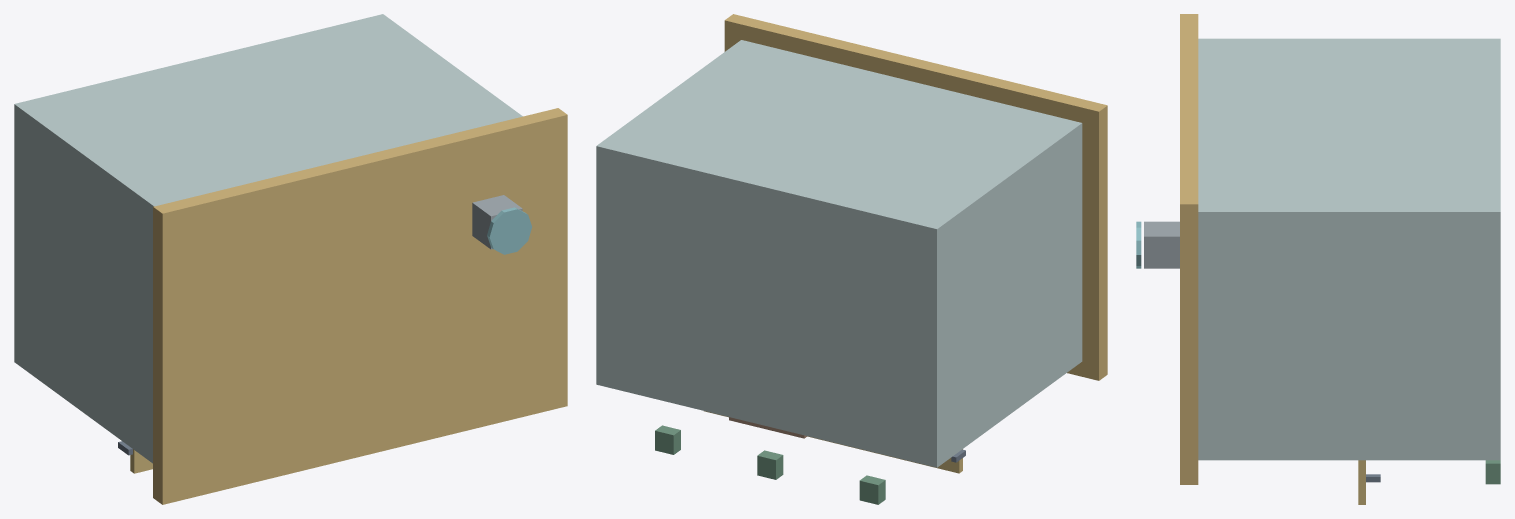
The model's file is community_hall.glb.
The picture shows the model from 3 angles, left to right: view 1: azimuth 30°, elevation 25°; view 2: azimuth 150°, elevation 25°; view 3: azimuth 270°, elevation 25°; orthographic projection. The views are drawn at different scales.
Parts seen in each view (by area): view 1: roof3, wall2, glass, metal2; view 2: wall2, roof3, green; view 3: wall2, roof3, metal2.
Boxes of the visible parts, x1=… form: roof3: x1=153, y1=108, x2=567, y2=504; wall2: x1=14, y1=14, x2=522, y2=463; glass: x1=487, y1=207, x2=531, y2=254; metal2: x1=472, y1=195, x2=522, y2=249; wall2: x1=596, y1=40, x2=1082, y2=467; roof3: x1=724, y1=14, x2=1107, y2=380; green: x1=655, y1=425, x2=885, y2=504; wall2: x1=1198, y1=38, x2=1500, y2=460; roof3: x1=1180, y1=14, x2=1198, y2=484; metal2: x1=1144, y1=221, x2=1179, y2=268.
Bounding box in the file's own units: 8.94 × 7.24 × 7.23.
